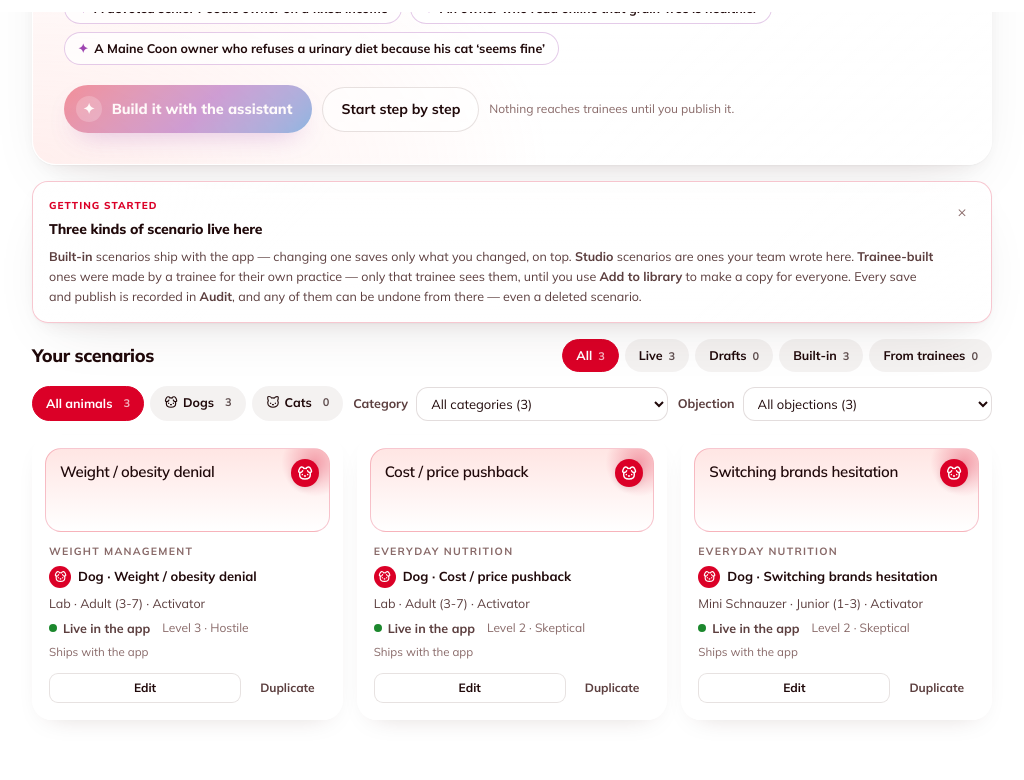
Test: StudioEditor › explains, rather than sends, a save the server would refuse
This screenshot has width=1024, height=780.
(page scrolled)
Click the button "Start step by step": [401, 109] box top-left (322, 87), bottom-right (479, 132)
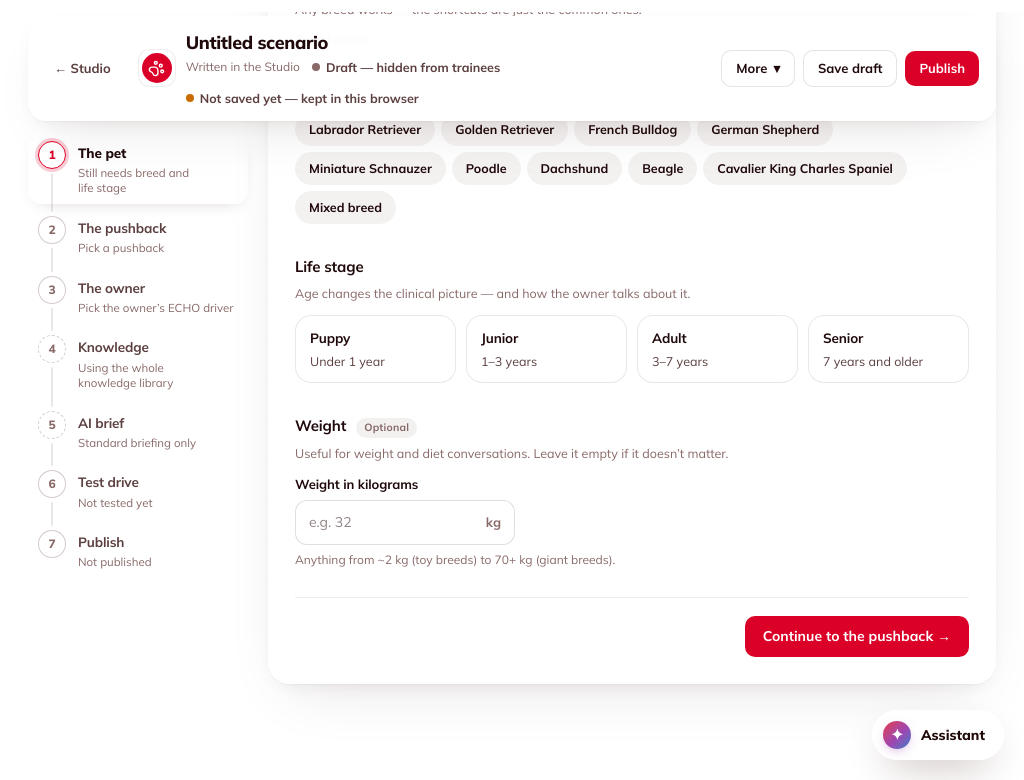
Click the button "Save draft": [850, 68] box top-left (803, 50), bottom-right (898, 87)
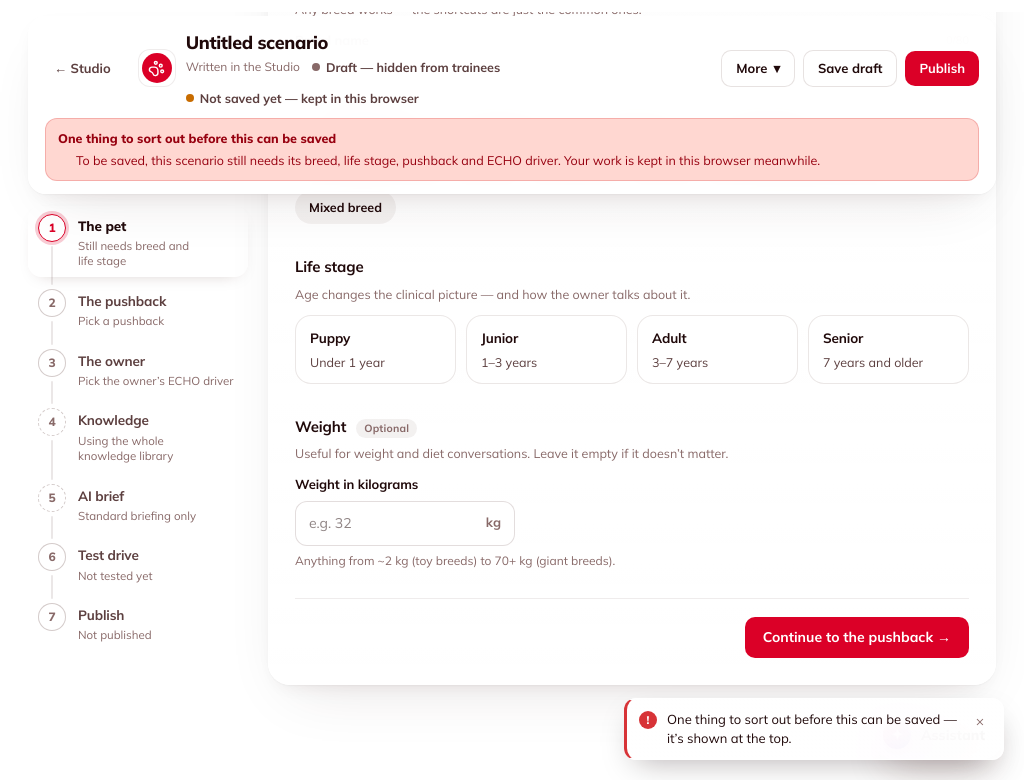
Now the list item "To be saved, this scenario still needs its breed, life stage, pushback and ECHO driver" is shown, box top-left (76, 152), bottom-right (820, 168)
